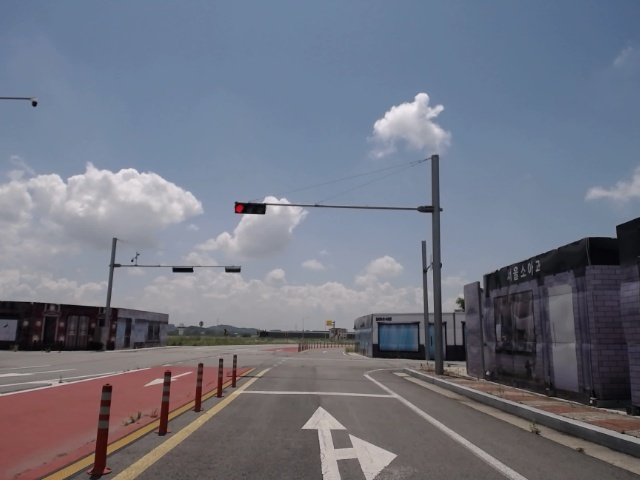red_3: (234, 203, 268, 215)
